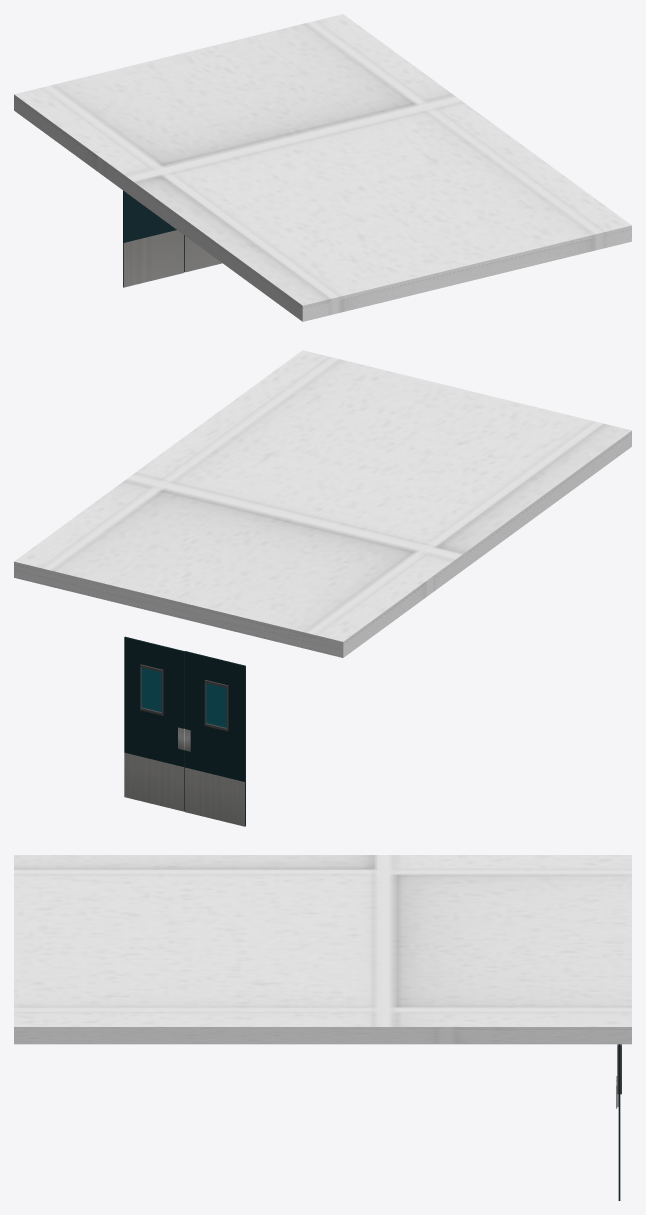
File: porte_1.fbx
3 renders of one model, top to bottom at view 1: azimuth 30°, elevation 25°; view 2: azimuth 150°, elevation 25°; view 3: azimuth 270°, elevation 25°, orthographic. The views are drawn at different scales.
Parts seen in each view (by area): view 1: Plafond, porte_2, porte_1; view 2: Plafond, porte_2, porte_1; view 3: Plafond, porte_1.
Boxes of the visible parts, <box> form: Plafond: <box>14,14,631,321</box>; porte_2: <box>123,190,183,287</box>; porte_1: <box>184,235,221,272</box>; Plafond: <box>14,350,631,657</box>; porte_2: <box>184,651,245,826</box>; porte_1: <box>124,636,184,811</box>; Plafond: <box>14,855,631,1044</box>; porte_1: <box>616,1044,621,1200</box>.
Size of the model in its own units: 705 by 438 by 1071.
